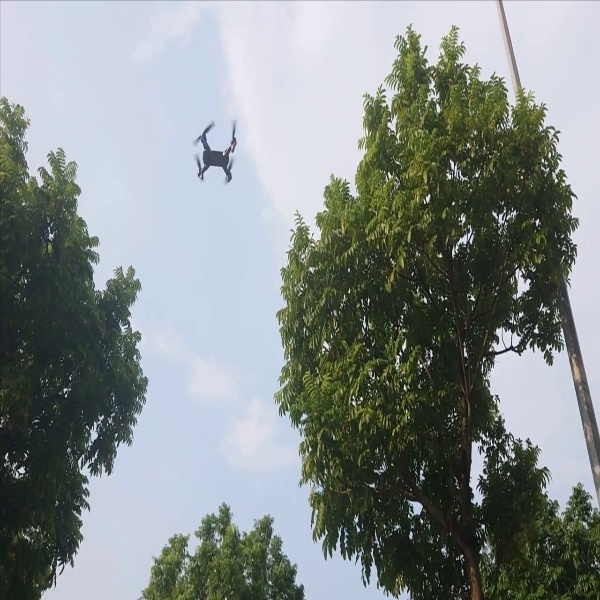drone: (184, 113, 247, 188)
